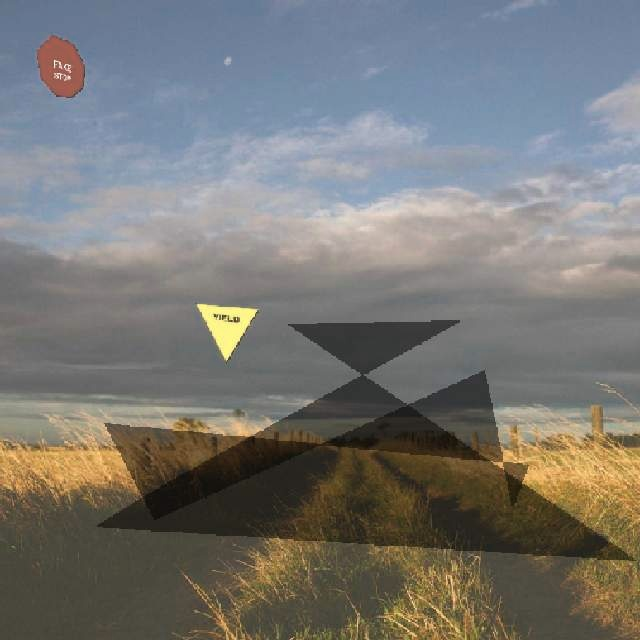FAKE_STOP: (35, 33, 84, 97)
YIELD: (194, 302, 258, 362)
